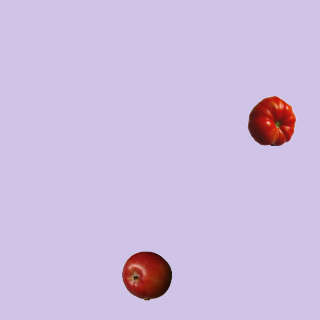Apple Braeburn: (121, 250, 171, 300)
Tomato 3: (246, 95, 296, 145)
